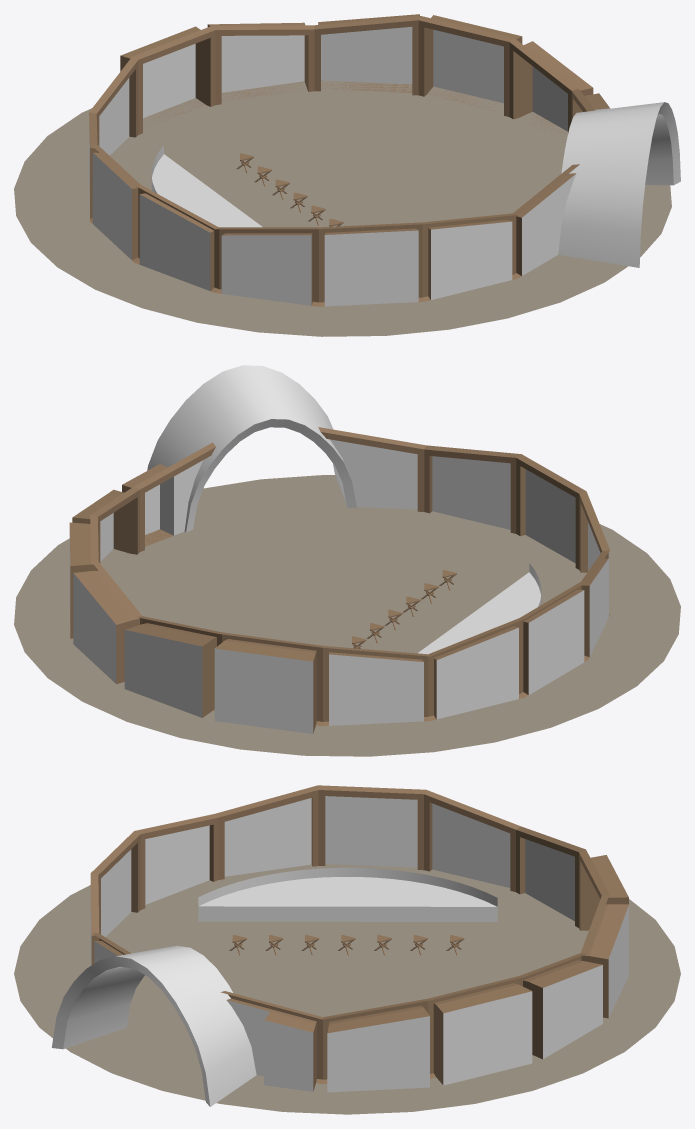
The model's file is BOD_v11_Env.glb.
The picture shows the model from 3 angles, top to bottom: view 1: azimuth 30°, elevation 25°; view 2: azimuth 150°, elevation 25°; view 3: azimuth 270°, elevation 25°; orthographic projection.
Visible parts, largest first — view 1: Ground, Walls, Gate, Stage, Chairs_v2; view 2: Ground, Walls, Gate, Stage, Chairs_v2; view 3: Walls, Ground, Gate, Stage, Chairs_v2.
Part boxes in pixels (left/top/right/bottom): Ground: left=14, top=80, right=671, bottom=336; Walls: left=89, top=14, right=610, bottom=306; Gate: left=558, top=102, right=680, bottom=267; Stage: left=151, top=145, right=262, bottom=227; Chairs_v2: left=236, top=153, right=343, bottom=226; Ground: left=14, top=475, right=680, bottom=756; Walls: left=69, top=427, right=609, bottom=733; Gate: left=147, top=365, right=356, bottom=532; Stage: left=418, top=563, right=541, bottom=654; Chairs_v2: left=352, top=570, right=456, bottom=648; Walls: left=90, top=785, right=628, bottom=1092; Ground: left=14, top=864, right=680, bottom=1114; Gate: left=51, top=945, right=256, bottom=1106; Stage: left=198, top=867, right=497, bottom=921; Chairs_v2: left=229, top=935, right=464, bottom=955.
Bounding box in the file's own units: 2 × 0.3931 × 2.
